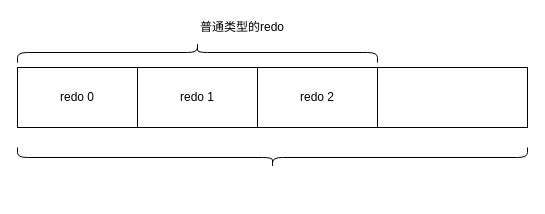
Some shapes in this 545 by 214 pixel diagram are drawn without their labels. Each missing label, with the box of its shape:
MLO_MULTI_REC_ENDO类型的redo: (376, 66, 528, 128)
一组redo日志: (16, 146, 528, 168)
